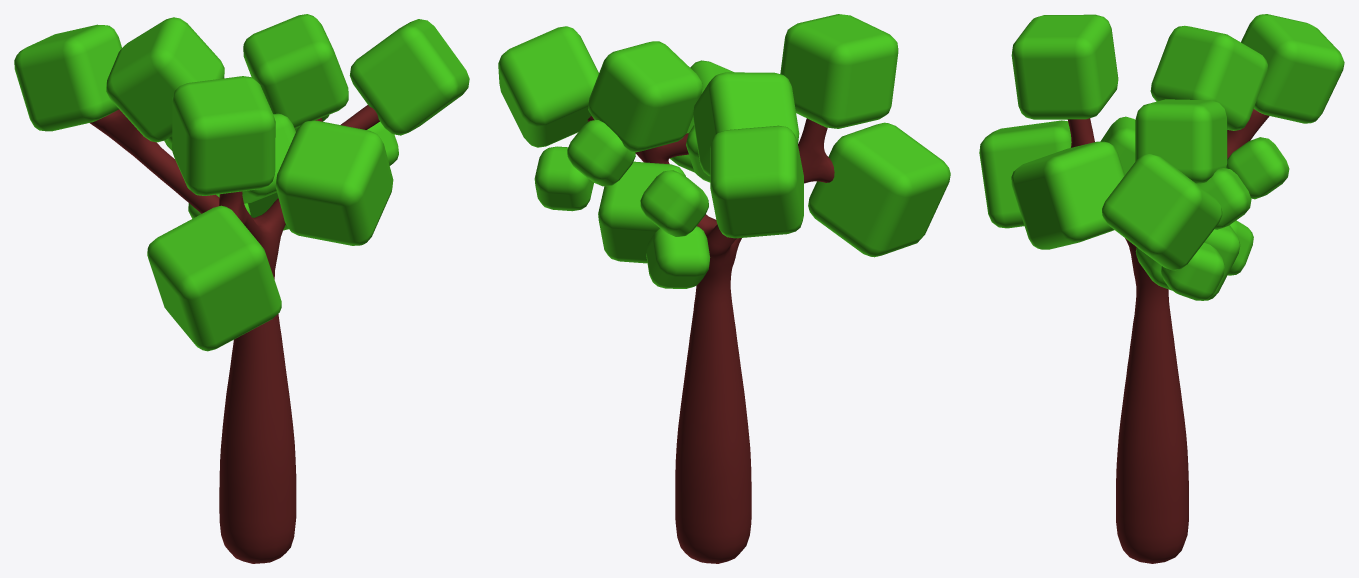
Rendered from tree_textures.gltf.
The picture shows the model from 3 angles, left to right: view 1: azimuth 30°, elevation 25°; view 2: azimuth 150°, elevation 25°; view 3: azimuth 270°, elevation 25°; orthographic projection. The views are drawn at different scales.
Parts seen in each view (by area): view 1: Tree, Cube.004, Cube.025, Cube.005, Cube.003, Cube, Cube.002, Cube.006, Cube.007, Cube.009; view 2: Tree, Cube.004, Cube.005, Cube, Cube.006, Cube.003, Cube.002, Cube.010, Cube.008, Cube.011, Cube.012, Cube.009 (+1 smaller); view 3: Tree, Cube.005, Cube.025, Cube.003, Cube.002, Cube, Cube.006, Cube.004, Cube.011, Cube.009, Cube.012, Cube.010 (+2 smaller).
Part boxes in pixels (x1,y1,x2,y2): Tree: (90, 105, 379, 563); Cube.004: (147, 205, 281, 351); Cube.025: (275, 120, 393, 245); Cube.005: (172, 76, 275, 195); Cube.003: (349, 19, 469, 135); Cube: (14, 24, 121, 131); Cube.002: (106, 17, 224, 142); Cube.006: (243, 14, 348, 128); Cube.007: (242, 113, 295, 203); Cube.009: (367, 122, 398, 165); Tree: (587, 116, 834, 563); Cube.004: (808, 122, 950, 257); Cube.005: (780, 14, 898, 128); Cube: (710, 125, 803, 238); Cube.006: (588, 41, 702, 152); Cube.003: (498, 26, 598, 147); Cube.002: (693, 72, 799, 176); Cube.010: (598, 161, 685, 263); Cube.008: (646, 226, 710, 288); Cube.011: (640, 170, 708, 236); Cube.012: (567, 120, 635, 186); Cube.009: (534, 146, 593, 211); Tree: (1067, 109, 1269, 563); Cube.005: (1011, 14, 1118, 119); Cube.025: (1011, 141, 1124, 249); Cube.003: (1102, 154, 1222, 270); Cube.002: (1150, 25, 1267, 130); Cube: (1241, 14, 1344, 123); Cube.006: (1135, 99, 1227, 184); Cube.004: (979, 120, 1071, 228); Cube.011: (1226, 137, 1289, 199); Cube.009: (1161, 242, 1224, 300); Cube.012: (1197, 168, 1251, 229); Cube.010: (1135, 225, 1240, 300).
Size of the model in its own units: 1.7 by 2.29 by 1.51.
